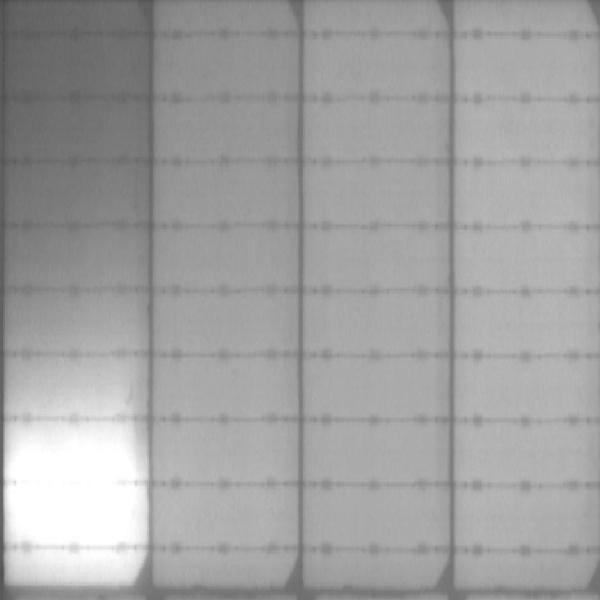hot_spot: (13, 487, 141, 541), (19, 440, 136, 482)
